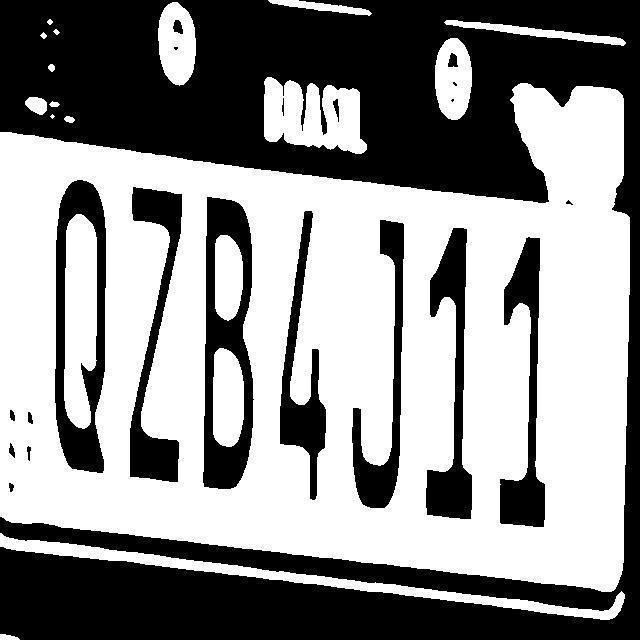1: (419, 218, 484, 523), (495, 233, 560, 534)
4: (278, 208, 336, 504)
b: (201, 192, 261, 494)
j: (344, 215, 414, 515)
q: (51, 177, 116, 477)
z: (122, 182, 190, 483)
